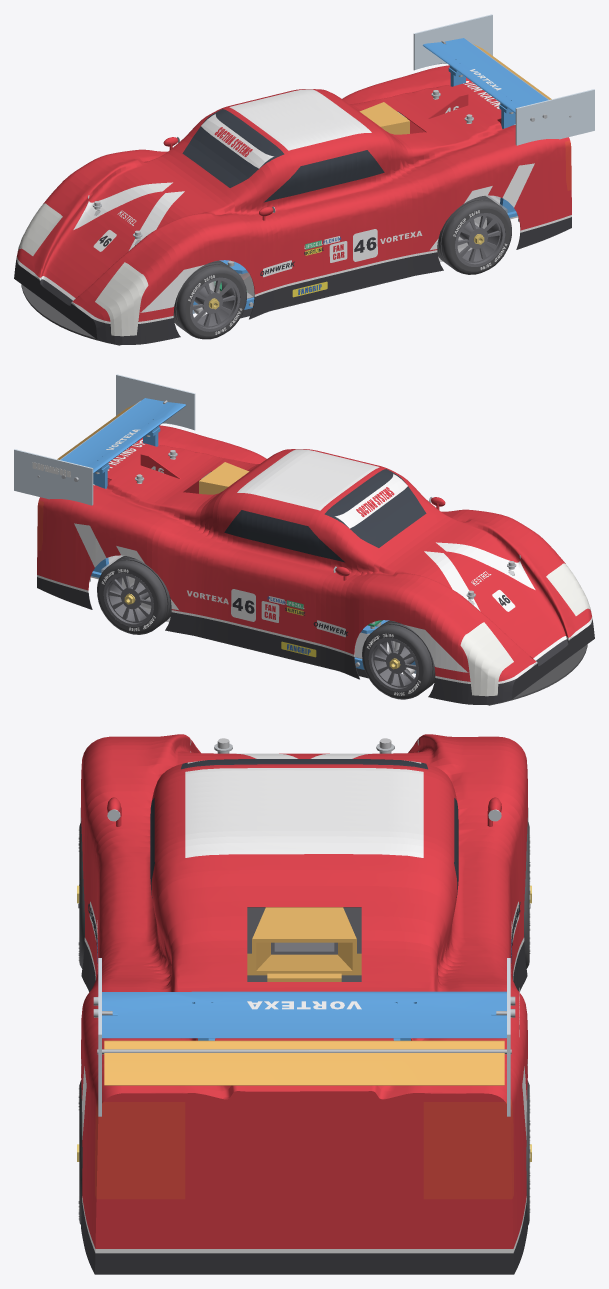
File: rc-fan-car.glb
The picture shows the model from 3 angles, top to bottom: view 1: azimuth 30°, elevation 25°; view 2: azimuth 150°, elevation 25°; view 3: azimuth 270°, elevation 25°; orthographic projection. The views are drawn at different scales.
Size of the model in its own units: 0.485 by 0.1425 by 0.191.
2 materials, 2 textured.
